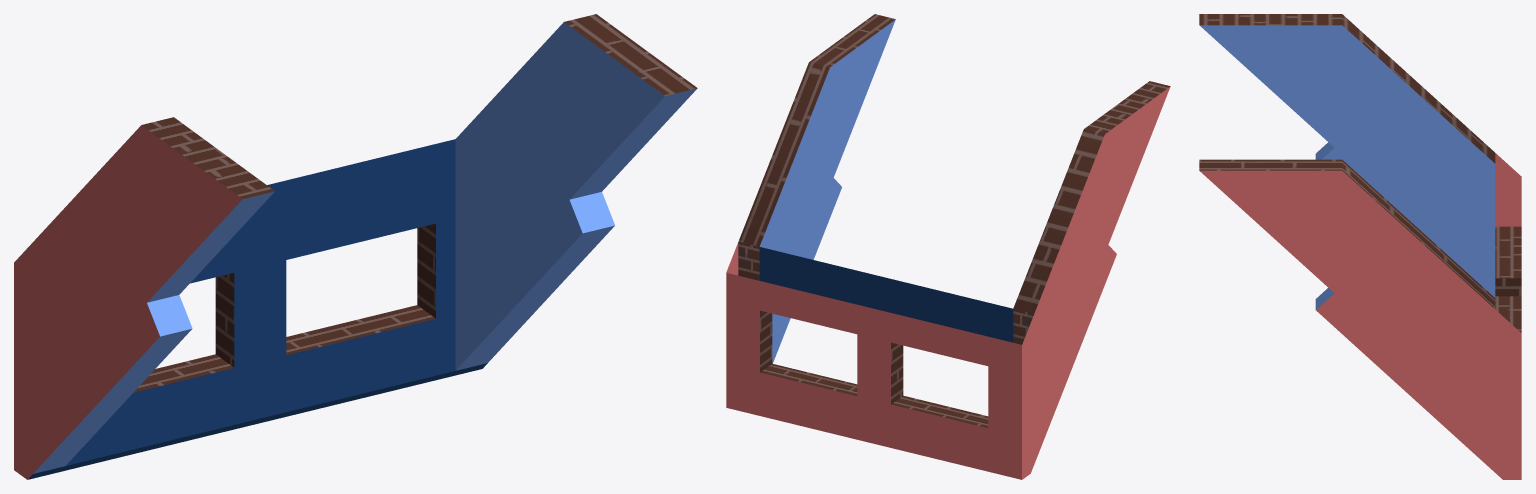
File: window_roof_1.FBX
The picture shows the model from 3 angles, left to right: view 1: azimuth 30°, elevation 25°; view 2: azimuth 150°, elevation 25°; view 3: azimuth 270°, elevation 25°; orthographic projection. The views are drawn at different scales.
Visible parts, largest first — view 1: window_roof_1; view 2: window_roof_1; view 3: window_roof_1.
Part boxes in pixels (x1,y1,x2,y2): window_roof_1: (14,14,697,479); window_roof_1: (726,14,1170,479); window_roof_1: (1199,14,1521,479).
Size of the model in its own units: 700 by 644 by 609.
4 materials, 1 textured.
